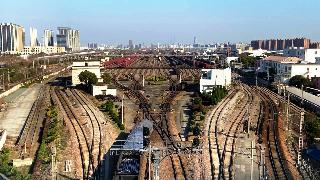train: (113, 119, 154, 180), (175, 82, 187, 91), (173, 67, 182, 75)
